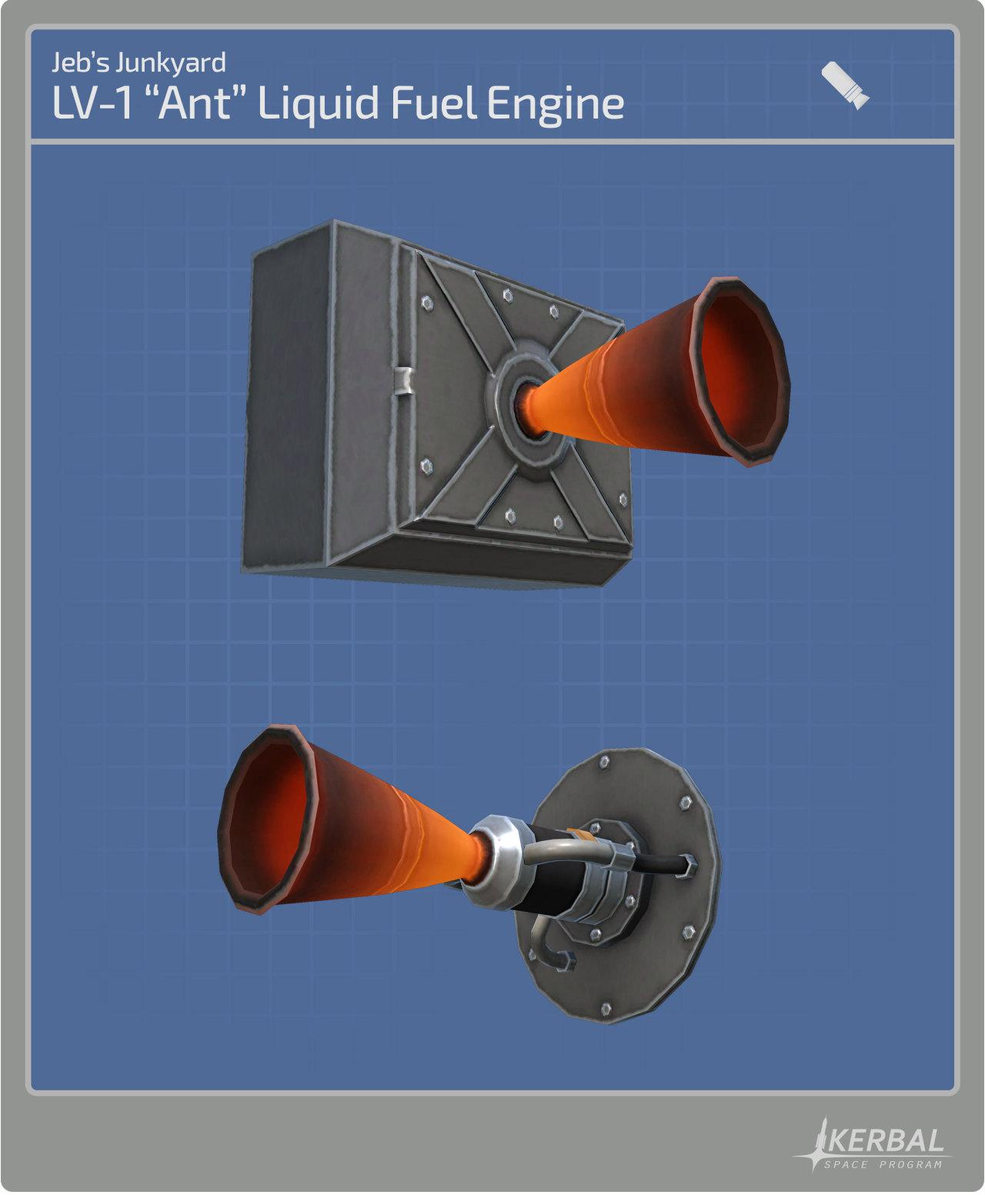thruster: (517, 262, 796, 475), (209, 720, 490, 920)
